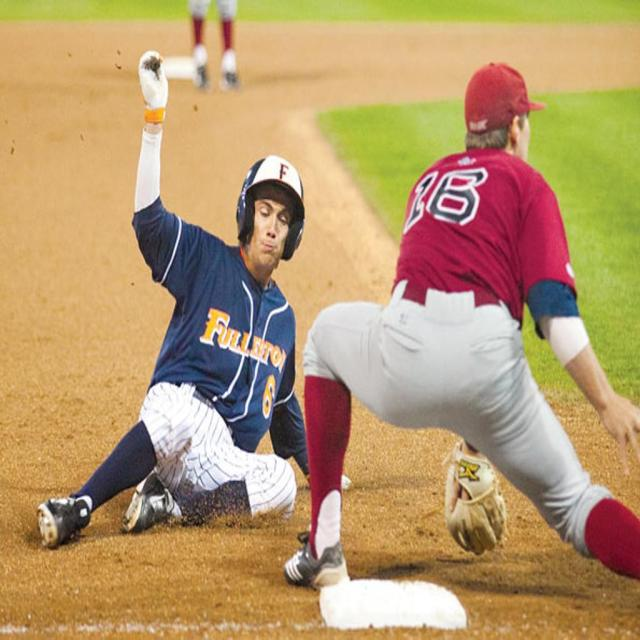Face: (240, 181, 299, 275)
